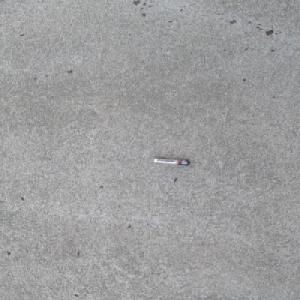Battery: (151, 157, 190, 165)
